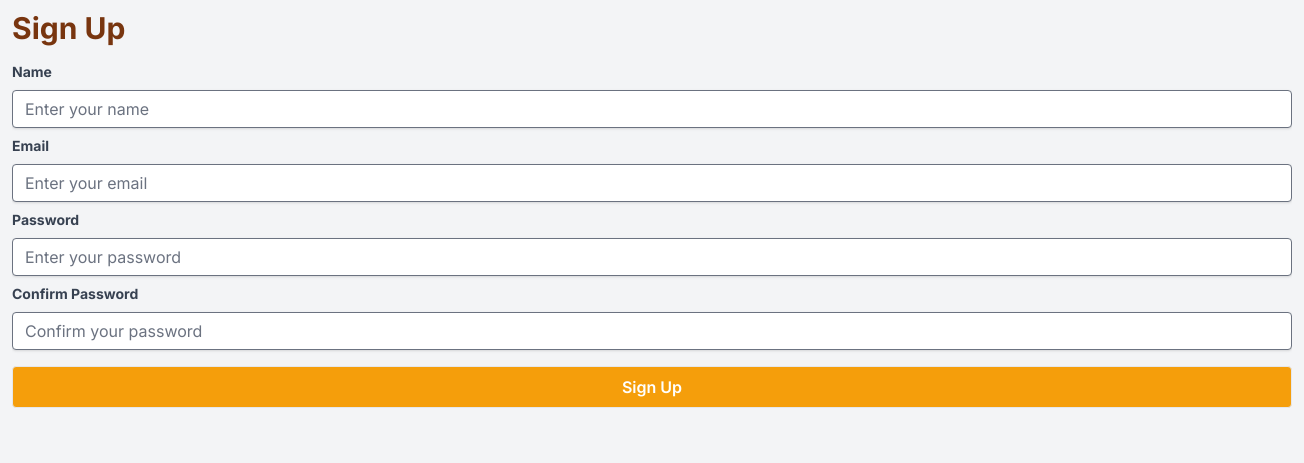
Test: Signup Page › should handle unexpected signup error correctly
The width and height of the screenshot is (1304, 463).
Type "John" into the field with placeholder "Enter your name".
click(652, 109); type("John")  # box [12, 90, 1292, 128]
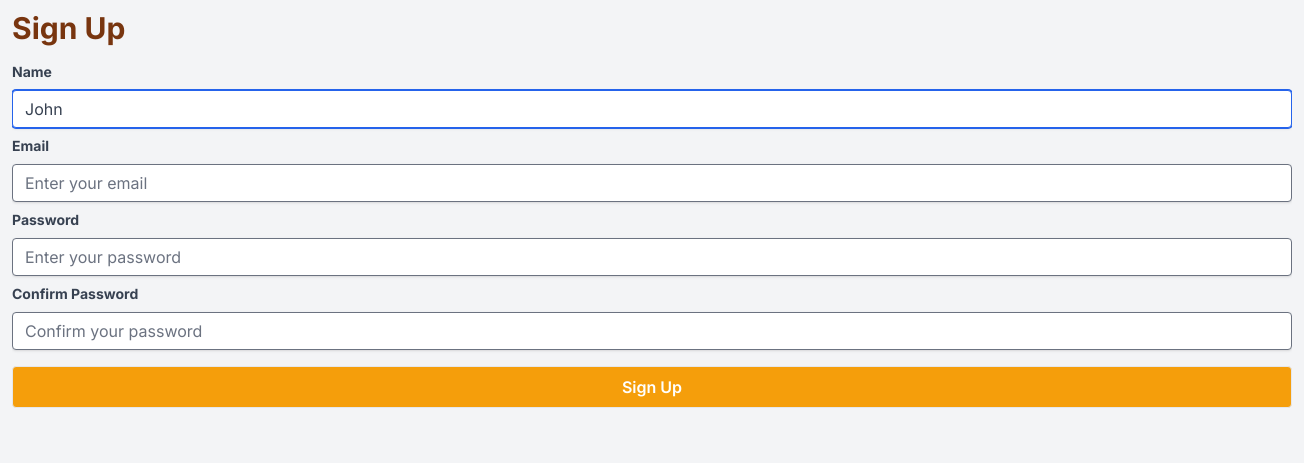
Type "jhon@test.com" into the field with placeholder "Enter your email".
click(652, 183); type("jhon@test.com")  # box [12, 164, 1292, 202]
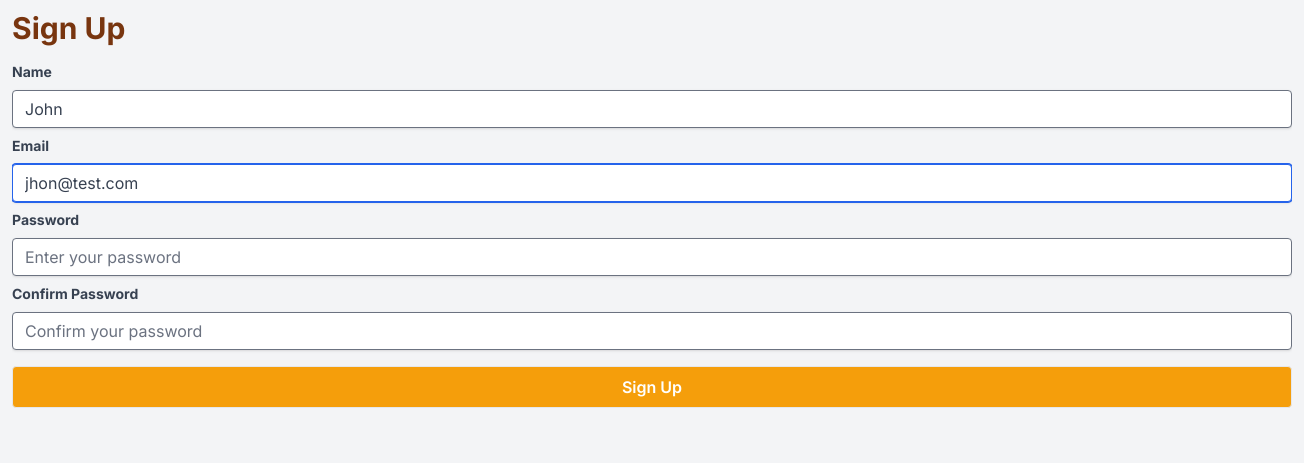
Type "Password123" into the password field with placeholder "Enter your password".
click(652, 257); type("Password123")  # box [12, 238, 1292, 276]
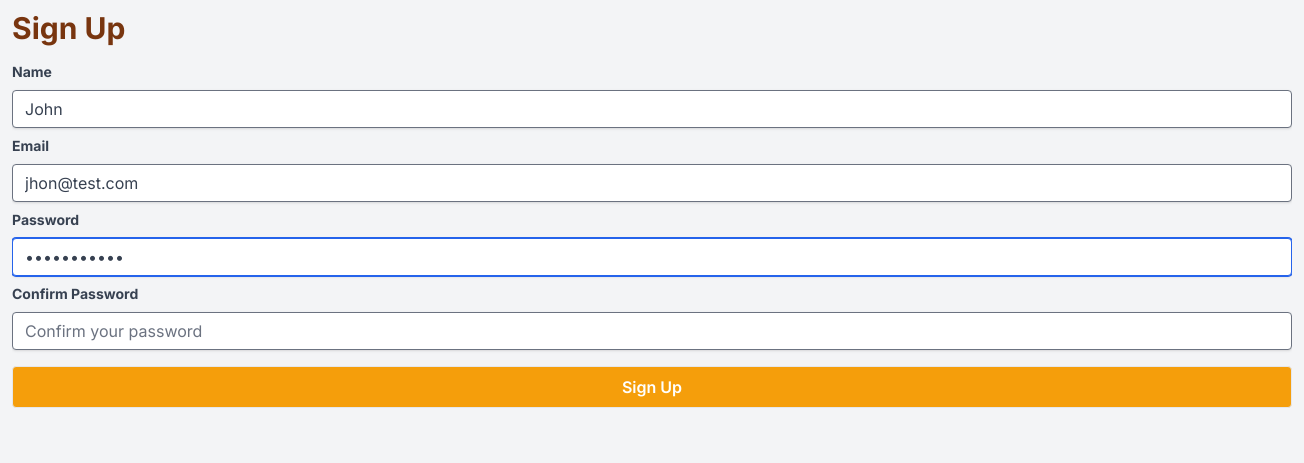
Type "Password123" into the password field with placeholder "Confirm your password".
click(652, 331); type("Password123")  # box [12, 312, 1292, 350]
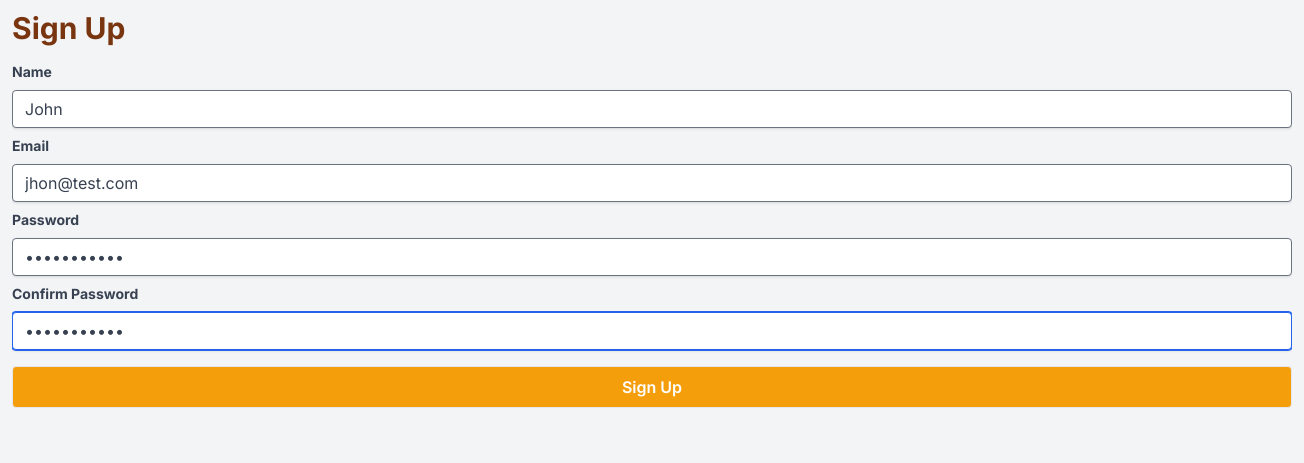
Click the button "Sign Up".
click(652, 387)  # box [12, 366, 1292, 408]
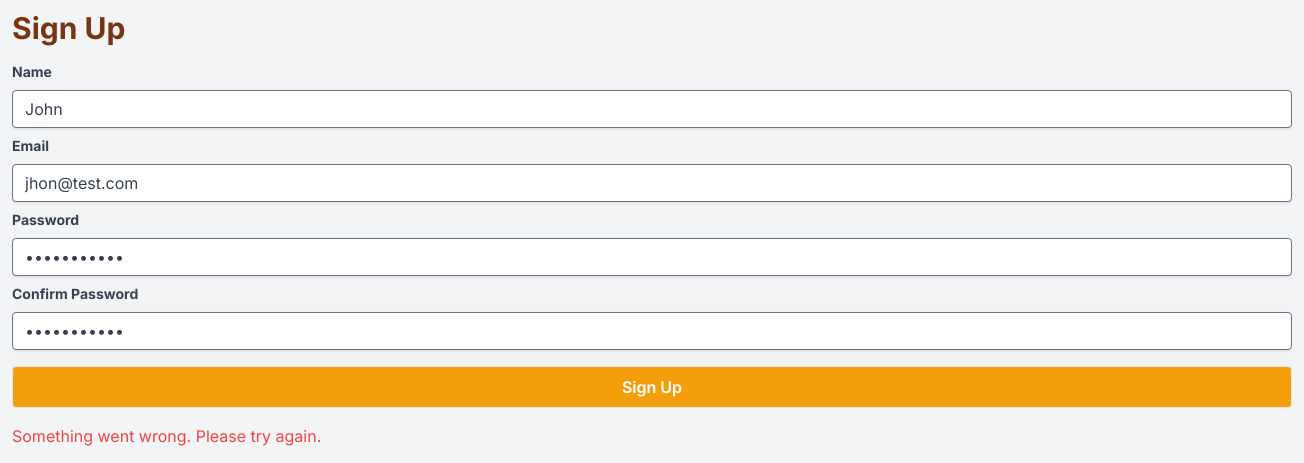
Result: the text "Something went wrong. Please try again." is shown at [12, 426, 321, 446]
